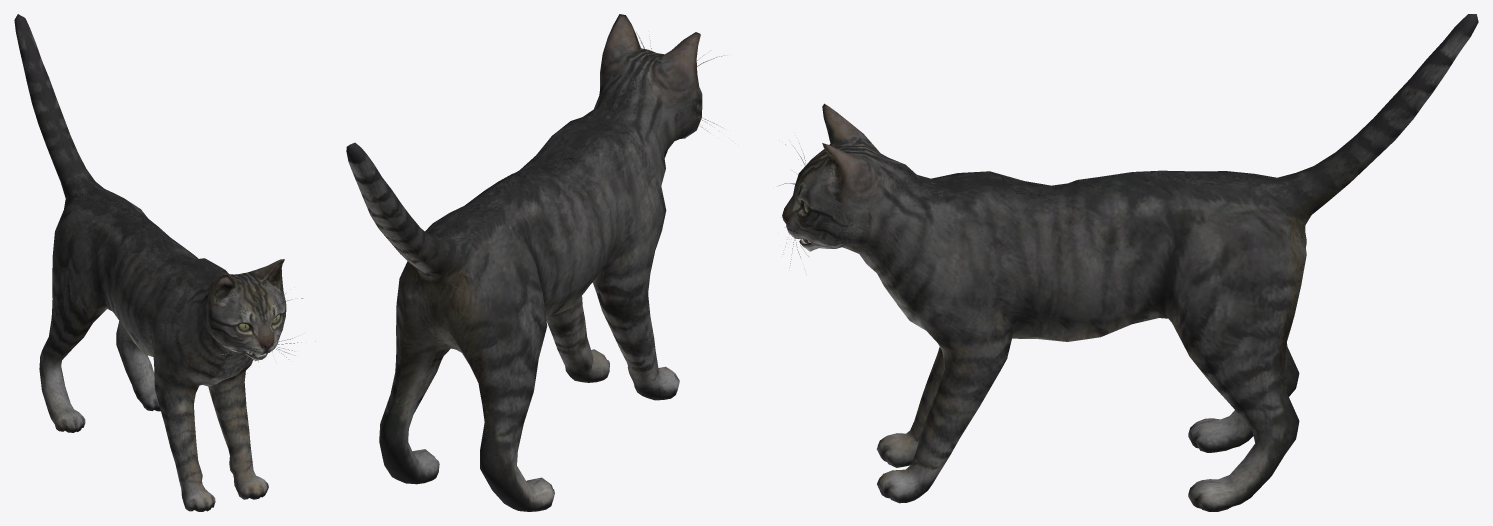
File: SiyahKedi.fbx
3 renders of one model, left to right at view 1: azimuth 30°, elevation 25°; view 2: azimuth 150°, elevation 25°; view 3: azimuth 270°, elevation 25°, orthographic. The views are drawn at different scales.
Parts seen in each view (by area): view 1: cat; view 2: cat; view 3: cat.
Part boxes in pixels (box(x1,y1,x2,y2)): cat: box(14, 14, 315, 511); cat: box(346, 14, 723, 511); cat: box(779, 14, 1478, 511).
Bounding box in the file's own units: 14.02 × 38.58 × 53.09.
